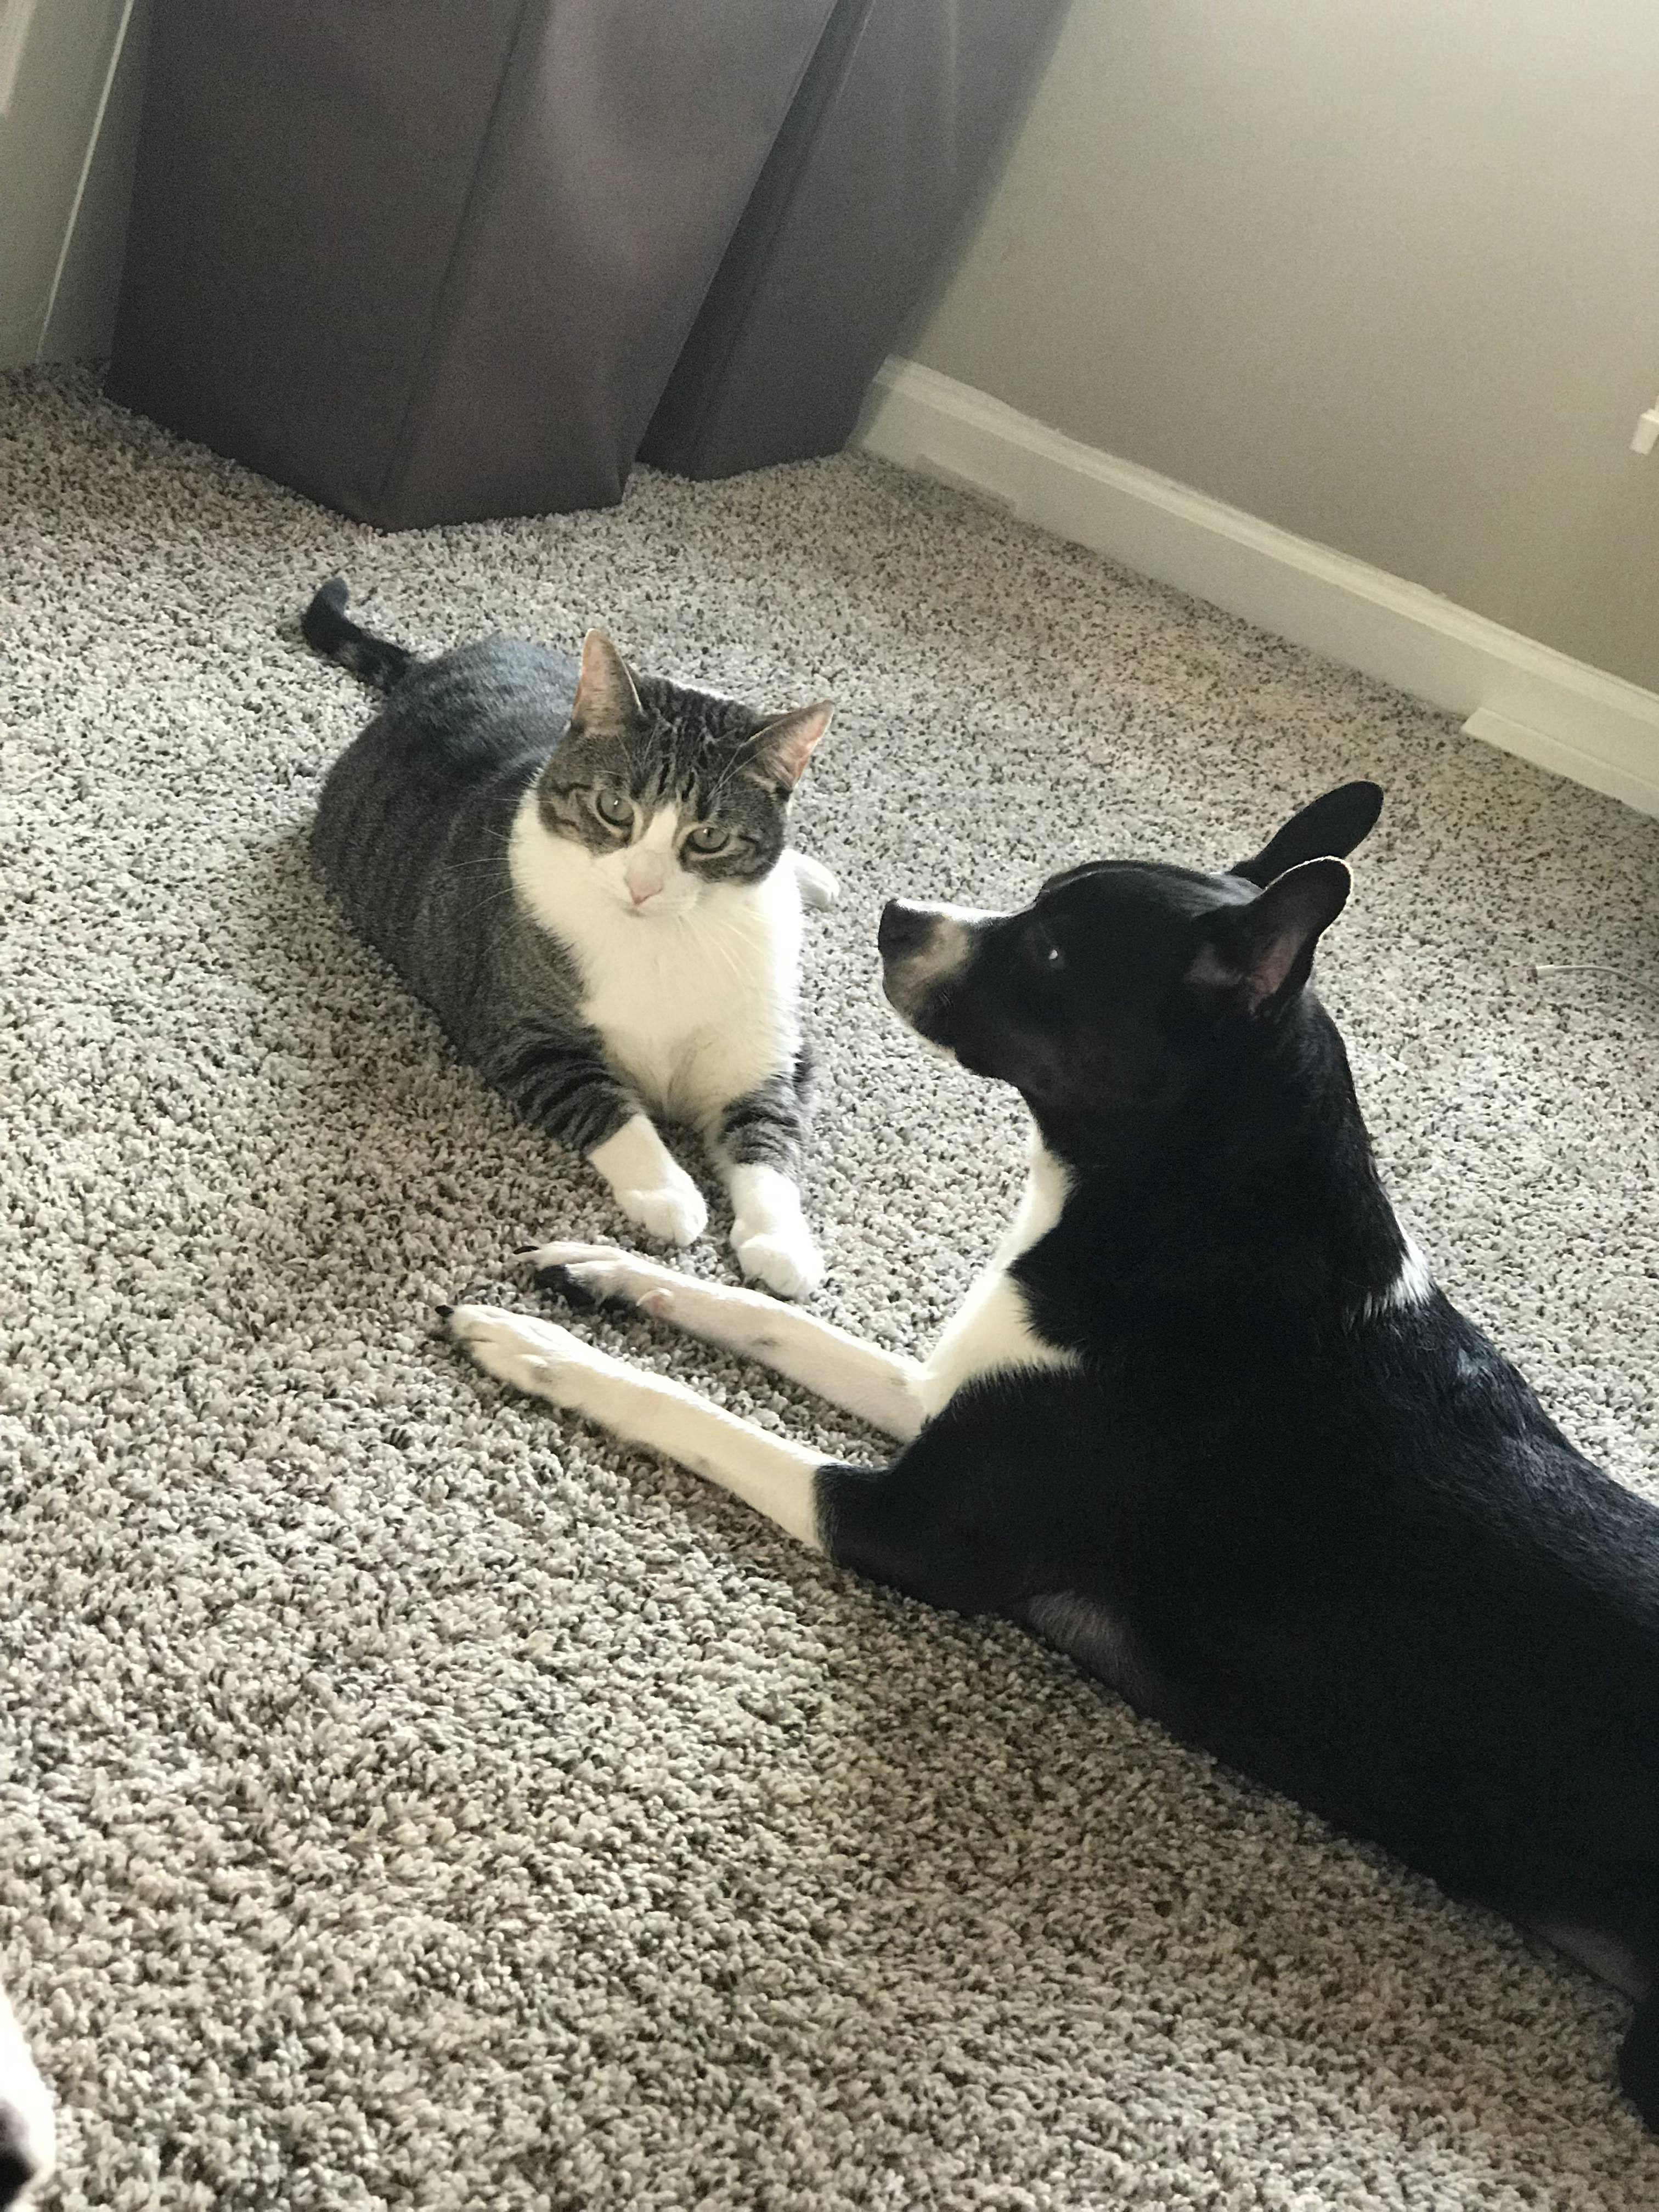Harley: (833, 765, 1659, 2130)
